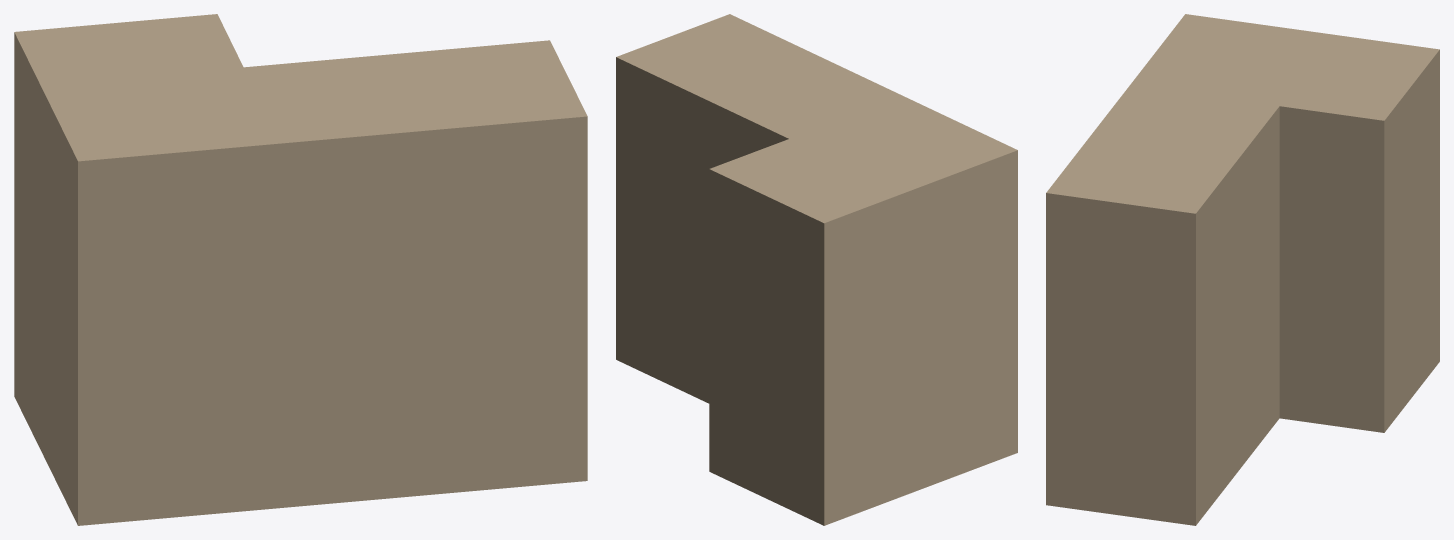
Rendered from bld_106306832.dae.
3 views of the same model, side by side, from view 1: azimuth 30°, elevation 25°; view 2: azimuth 150°, elevation 25°; view 3: azimuth 270°, elevation 25° (orthographic). The views are drawn at different scales.
Visible parts, largest first — view 1: bld_106306832; view 2: bld_106306832; view 3: bld_106306832.
Part boxes in pixels (x1,y1,x2,y2): bld_106306832: (14,14,587,525); bld_106306832: (616,14,1017,525); bld_106306832: (1046,14,1439,525).
Bounding box in the file's own units: 10.98 × 9.15 × 8.
